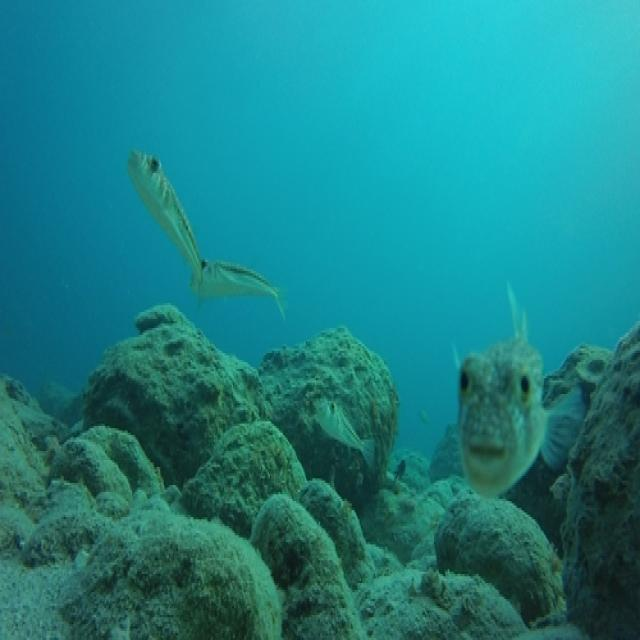Balik: (459, 287, 584, 496), (127, 151, 202, 282), (191, 260, 285, 318), (315, 399, 375, 469)
